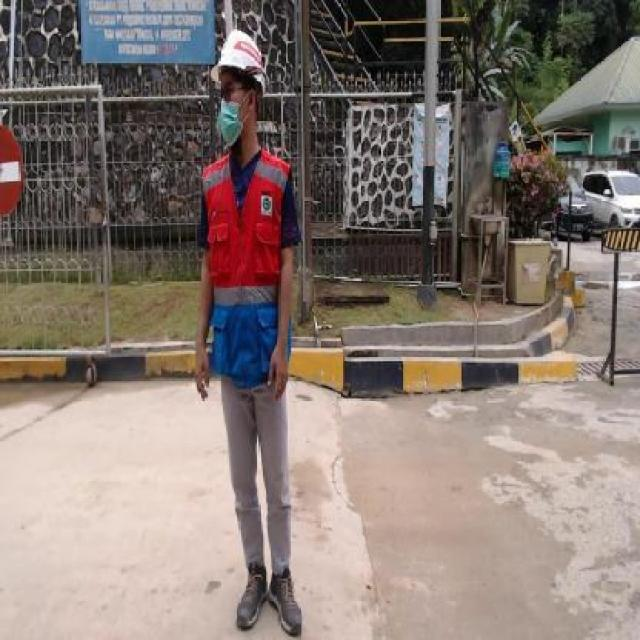Boots: (266, 562, 305, 636), (233, 556, 269, 632)
Helmet: (208, 26, 268, 96)
Mask: (215, 96, 254, 141)
